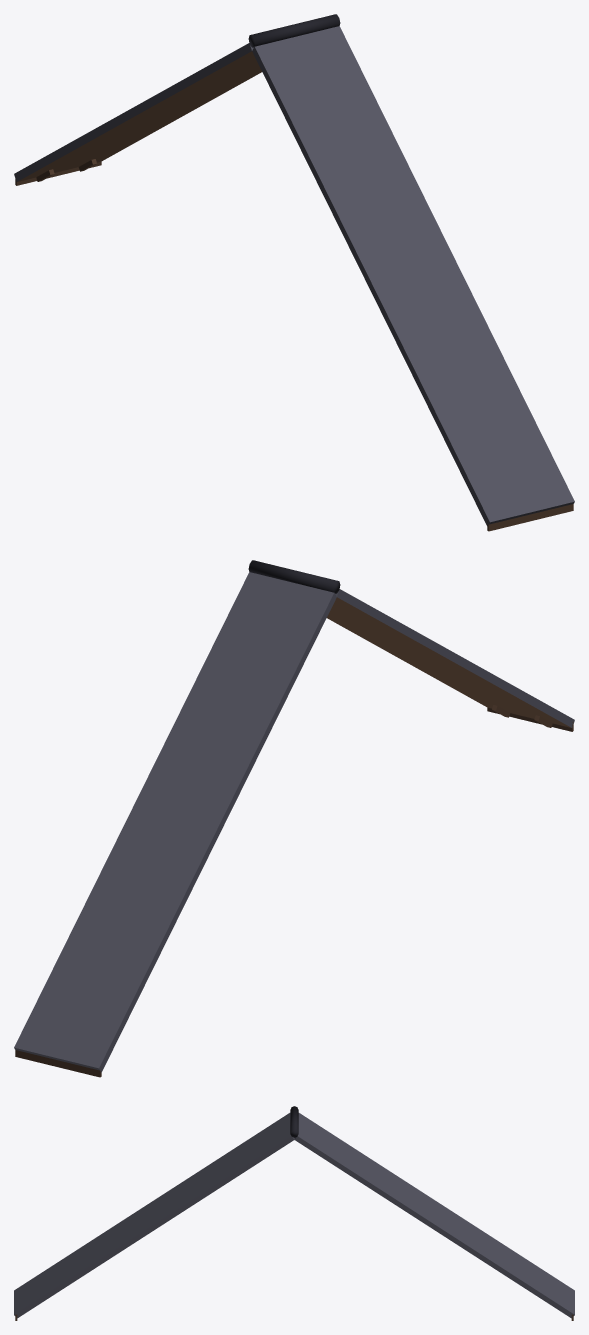
Rendered from kit_stone_slate_w9.glb.
The picture shows the model from 3 angles, top to bottom: view 1: azimuth 30°, elevation 25°; view 2: azimuth 150°, elevation 25°; view 3: azimuth 270°, elevation 25°; orthographic projection. The views are drawn at different scales.
Visible parts, largest first — view 1: kit_stone_slate_w9; view 2: kit_stone_slate_w9; view 3: kit_stone_slate_w9.
Boxes of the visible parts, x1,y1,x2,y2 form: kit_stone_slate_w9: [14, 14, 574, 531]; kit_stone_slate_w9: [14, 560, 574, 1077]; kit_stone_slate_w9: [14, 1106, 574, 1320].
Bounding box in the file's own units: 1 × 3.63 × 9.7.
